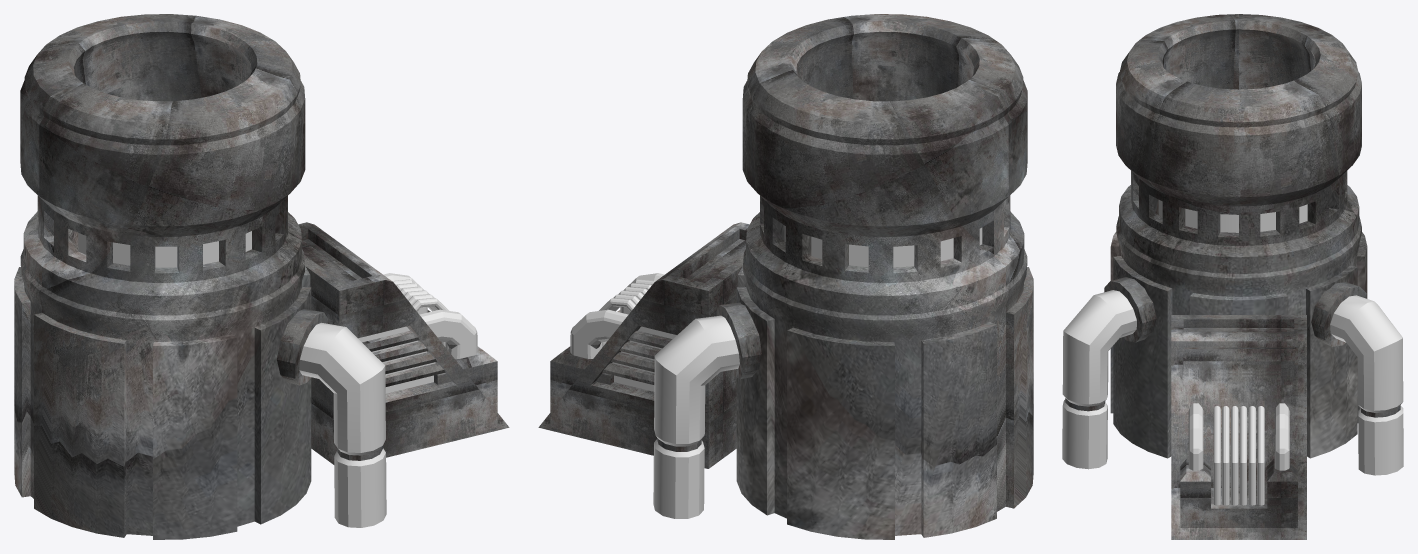
File: furnace.fbx
The picture shows the model from 3 angles, left to right: view 1: azimuth 30°, elevation 25°; view 2: azimuth 150°, elevation 25°; view 3: azimuth 270°, elevation 25°; orthographic projection. The views are drawn at different scales.
Visible parts, largest first — view 1: Cylinder, Cylinder.001, Cube.001, Plane.001; view 2: Cylinder, Cylinder.001, Cube.001, Plane.001; view 3: Cylinder, Cylinder.001, Plane.001, Cube.001.
Boxes of the visible parts, <box> form: Cylinder: <box>14,14,509,539</box>; Cylinder.001: <box>277,309,386,527</box>; Cube.001: <box>78,231,435,393</box>; Plane.001: <box>392,279,448,350</box>; Cylinder: <box>538,14,1033,539</box>; Cylinder.001: <box>653,302,761,518</box>; Cube.001: <box>612,226,982,391</box>; Plane.001: <box>599,279,655,350</box>; Cylinder: <box>1110,14,1367,539</box>; Cylinder.001: <box>1062,277,1403,475</box>; Plane.001: <box>1213,406,1264,505</box>; Cube.001: <box>1158,200,1307,232</box>.
Bounding box in the file's own units: 353 × 321 × 278.
